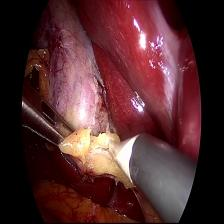Grasper: (20, 80, 76, 152)
Hook: (105, 118, 146, 170)
